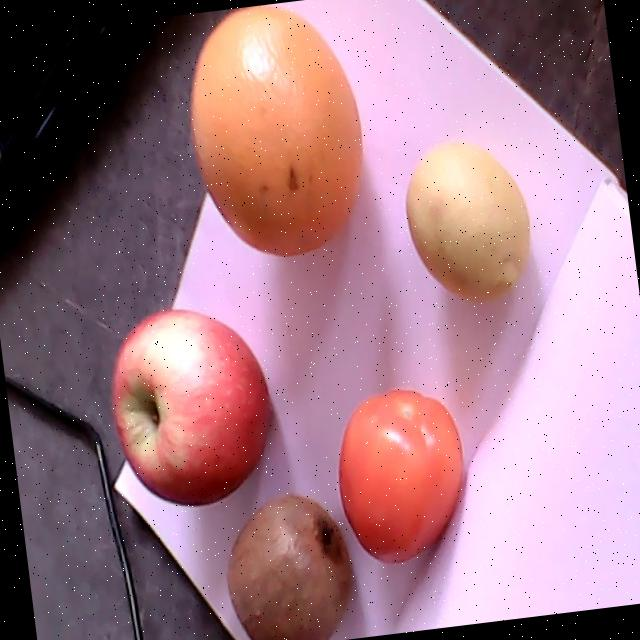apple: (110, 307, 272, 507)
kiwi: (227, 493, 350, 640)
lemon: (406, 144, 530, 299)
orange: (190, 5, 362, 255)
tomato: (339, 389, 462, 562)
